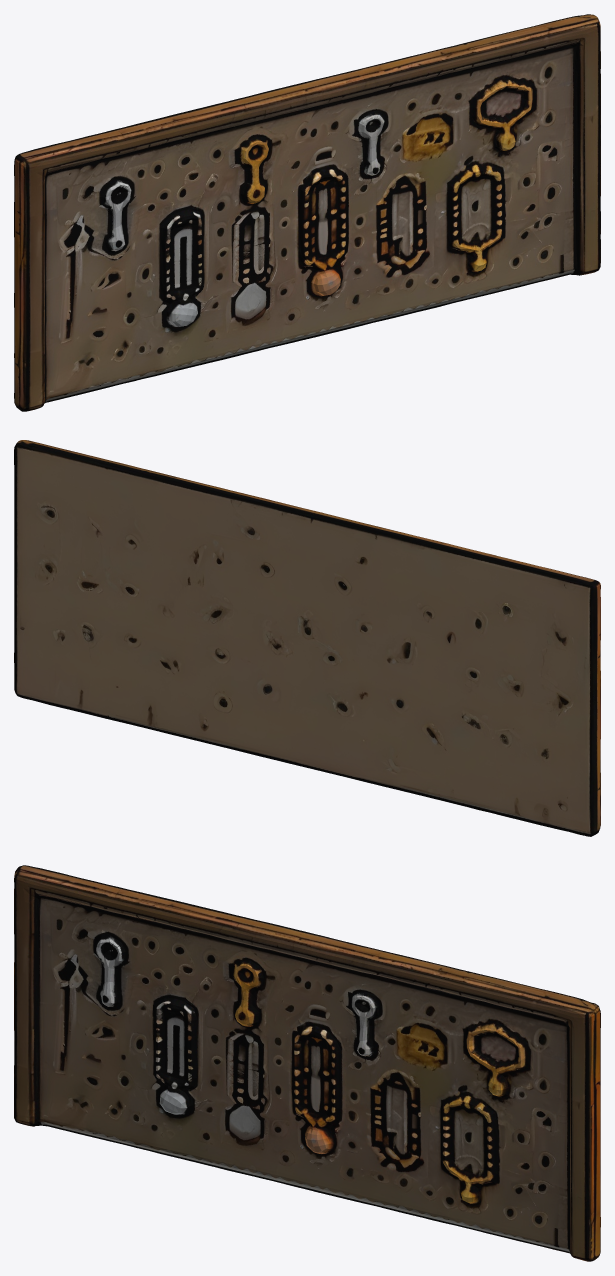
File: tripo_convert_1b2cefbf-92b5-453a-9f90-000ae5290d7e.obj
3 views of the same model, one above another, from view 1: azimuth 30°, elevation 25°; view 2: azimuth 150°, elevation 25°; view 3: azimuth 330°, elevation 25° (orthographic).
Parts seen in each view (by area): view 1: tripo_node_1b2cefbf-92b5-453a-9f90-000ae5290d7e; view 2: tripo_node_1b2cefbf-92b5-453a-9f90-000ae5290d7e; view 3: tripo_node_1b2cefbf-92b5-453a-9f90-000ae5290d7e.
Part boxes in pixels (<box>): tripo_node_1b2cefbf-92b5-453a-9f90-000ae5290d7e: <box>14,14,600,411</box>; tripo_node_1b2cefbf-92b5-453a-9f90-000ae5290d7e: <box>14,440,600,836</box>; tripo_node_1b2cefbf-92b5-453a-9f90-000ae5290d7e: <box>14,865,600,1261</box>.
Bounding box in the file's own units: 0.9999 × 0.4229 × 0.0389.
Materials: 1 (1 with a texture image).
